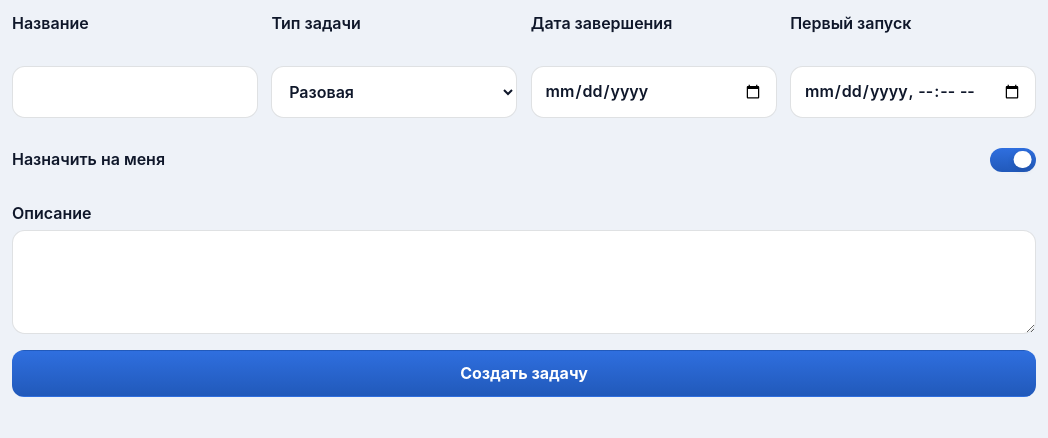
Test: TaskForm › shows delegated-user selection only when self-assignment is disabled
This screenshot has width=1048, height=438.
expect the field labelled "Пользователь для делегирования" is not shown: met
Click the checkbox labelled "Назначить на меня" at (88, 159), box [12,148,1036,172]
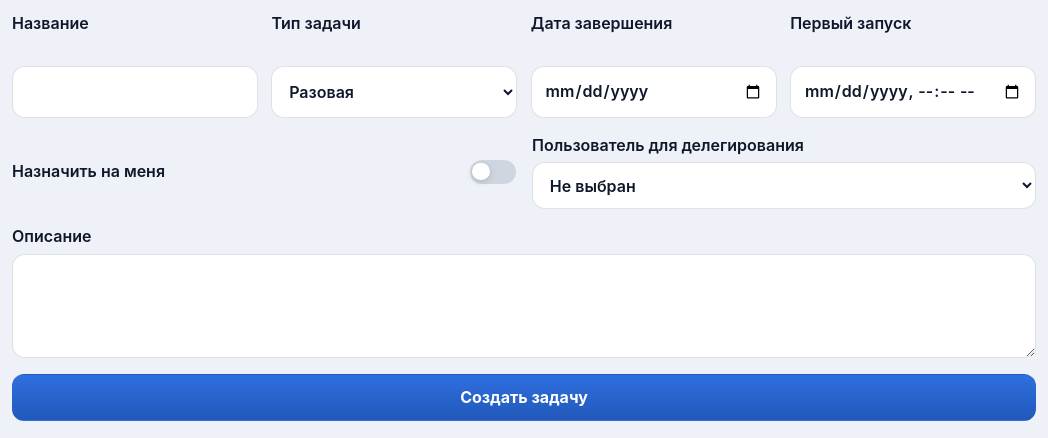
expect the dropdown labelled "Пользователь для делегирования" is shown: met
Select "Врач Иванов Иван (11)" in the dropdown labelled "Пользователь для делегирования" at (784, 186), box [532,162,1036,209]
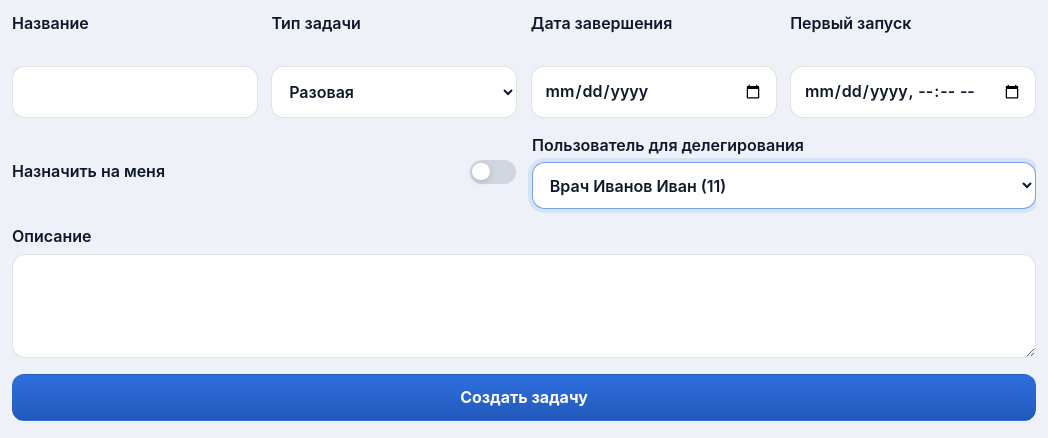
Click the checkbox labelled "Назначить на меня" at (88, 171), box [12,160,516,184]
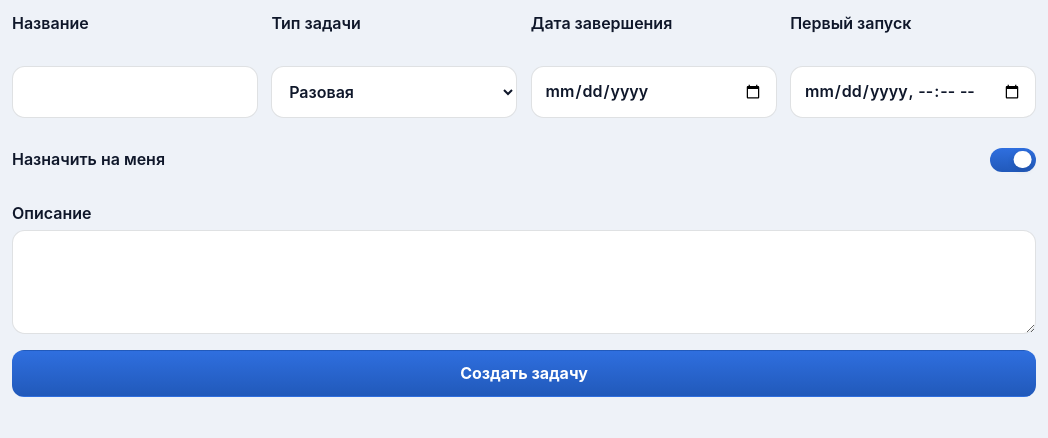
expect the label labelled "Пользователь для делегирования" is gone: met
